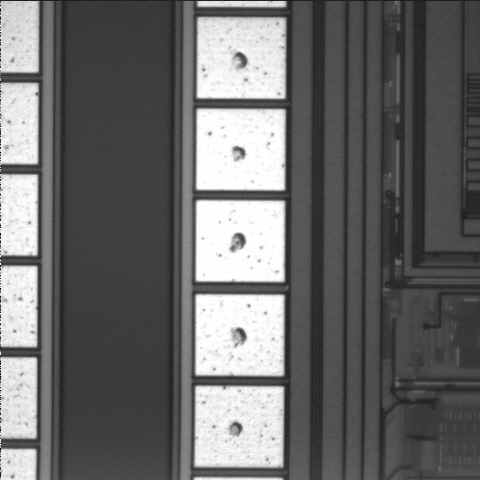pad: (197, 17, 286, 99), (196, 109, 285, 191), (196, 200, 285, 282), (195, 294, 284, 376), (195, 386, 284, 467)
